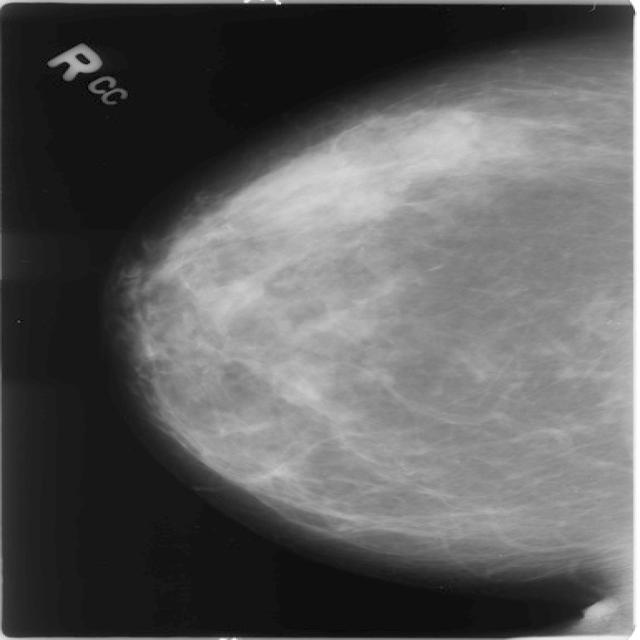tumour: (278, 379, 319, 405)
